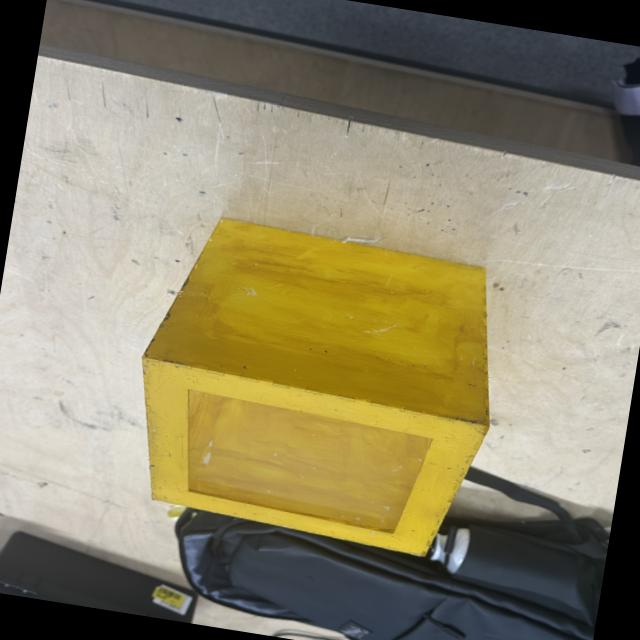yellow_bin: (118, 208, 516, 564)
